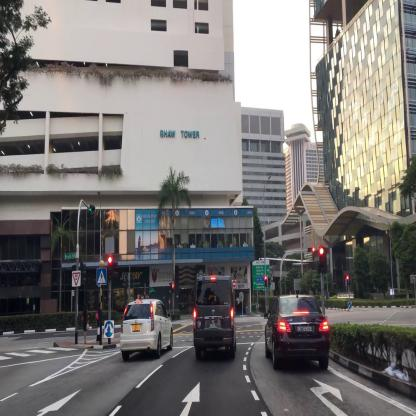red_traffic_light: (319, 246, 326, 272), (108, 257, 112, 280)
